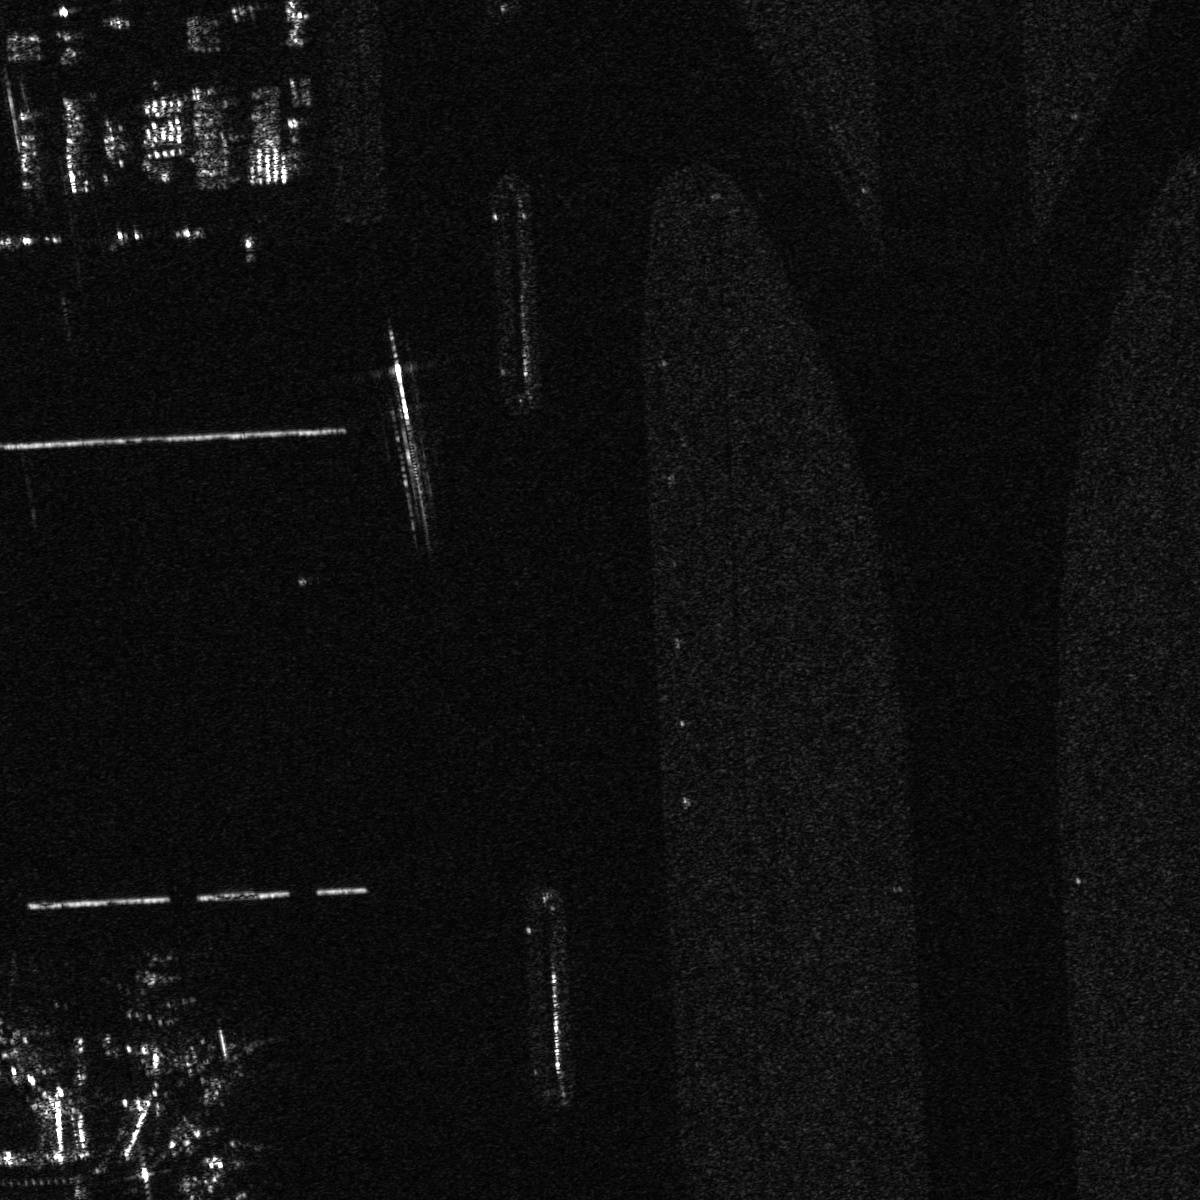A320/321: (116, 964, 195, 1032)
